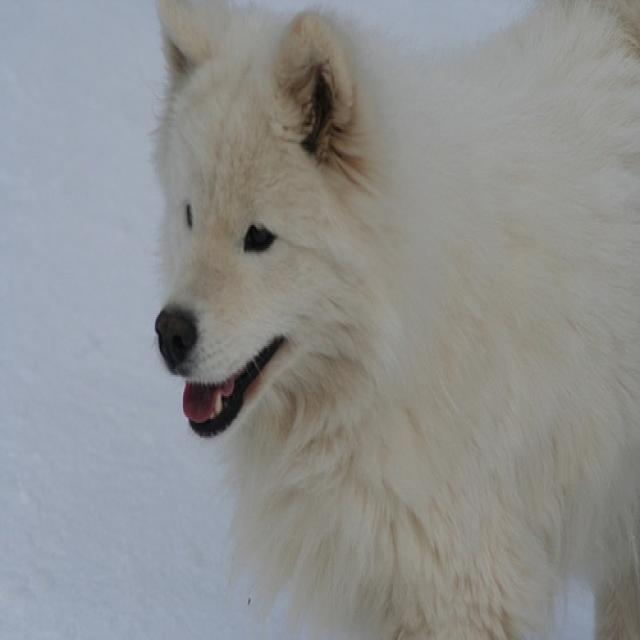dog-samoyed: (145, 2, 637, 636)
